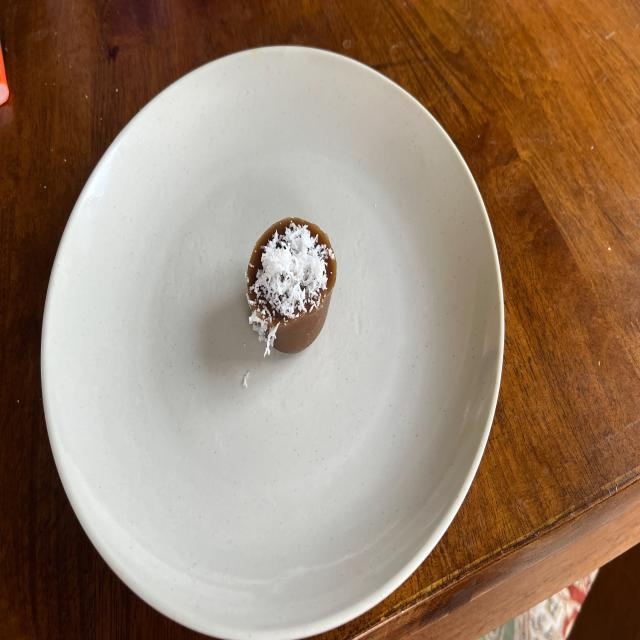Kuih lompang: (248, 218, 336, 356)
